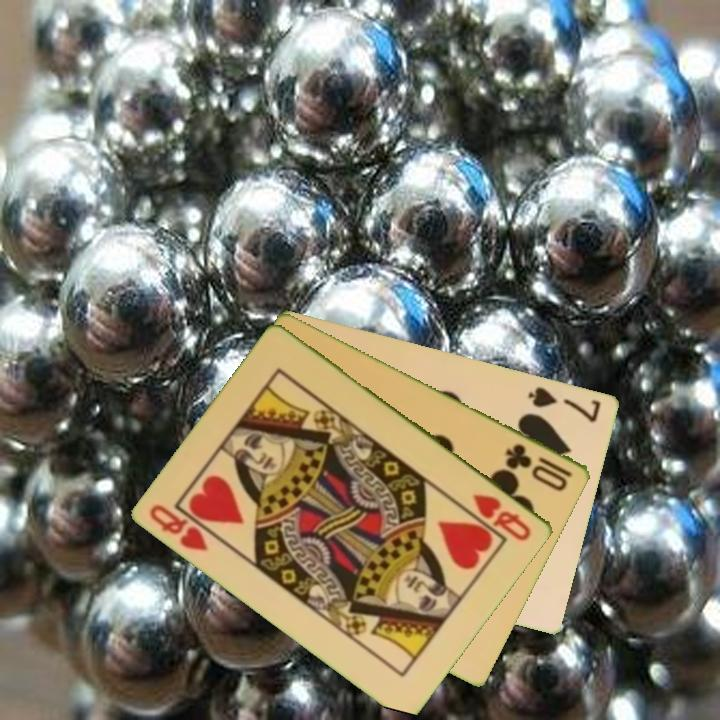10c: (502, 440, 576, 494)
7s: (525, 383, 604, 425)
Qh: (146, 500, 225, 554), (469, 490, 535, 545)
